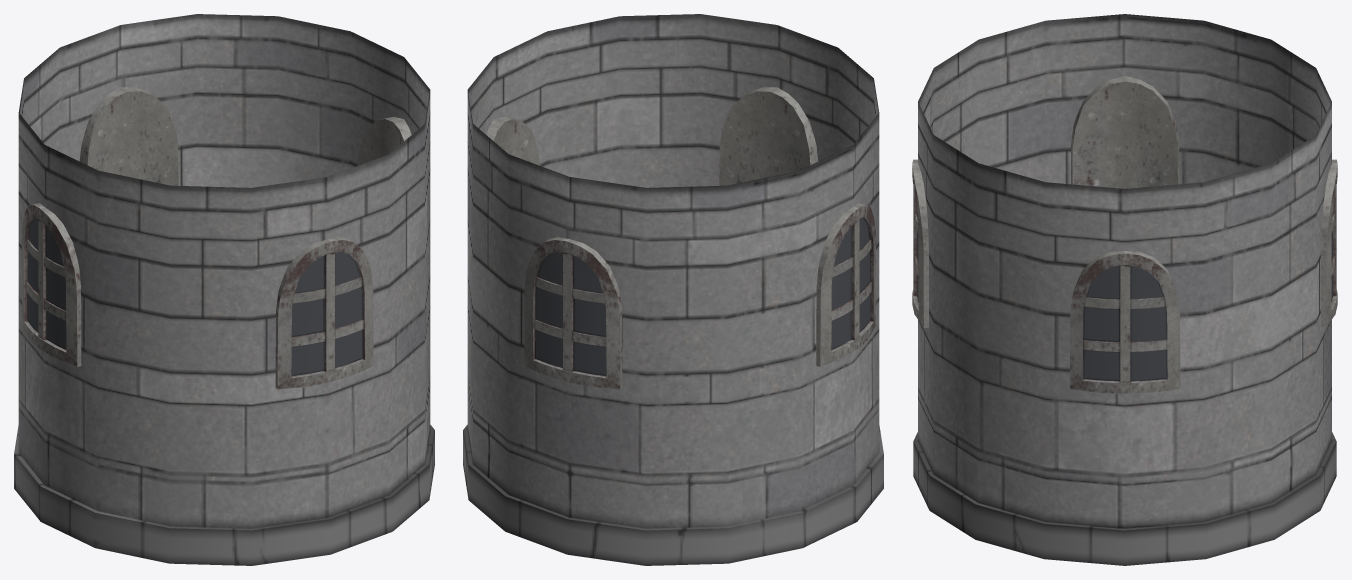
File: sb_obj_outdoor001_Castle01_CircleWall02.fbx
3 views of the same model, side by side, from view 1: azimuth 30°, elevation 25°; view 2: azimuth 150°, elevation 25°; view 3: azimuth 270°, elevation 25° (orthographic).
Parts seen in each view (by area): view 1: sb_obj_outdoor001_Castle01_CircleWall02; view 2: sb_obj_outdoor001_Castle01_CircleWall02; view 3: sb_obj_outdoor001_Castle01_CircleWall02.
Boxes of the visible parts, left/top/right/bottom form: sb_obj_outdoor001_Castle01_CircleWall02: left=14, top=14, right=434, bottom=565; sb_obj_outdoor001_Castle01_CircleWall02: left=463, top=14, right=883, bottom=565; sb_obj_outdoor001_Castle01_CircleWall02: left=912, top=14, right=1337, bottom=565.
Bounding box in the file's own units: 3.08 × 3 × 3.08.
